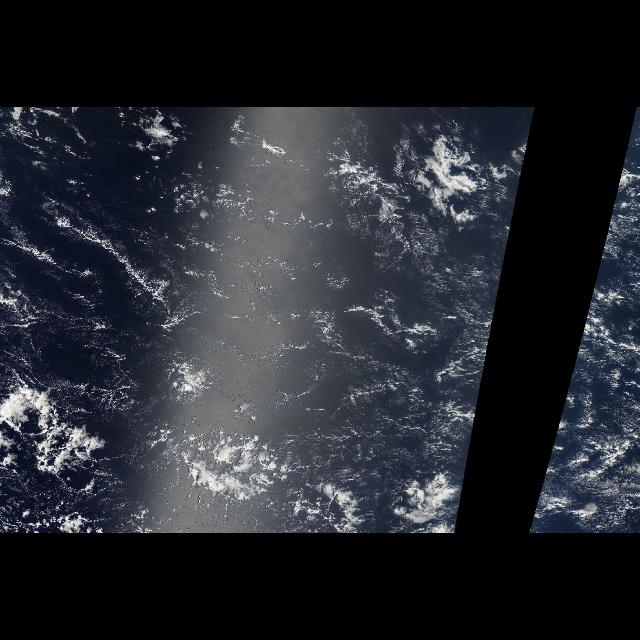Sugar: (152, 220, 508, 470)
